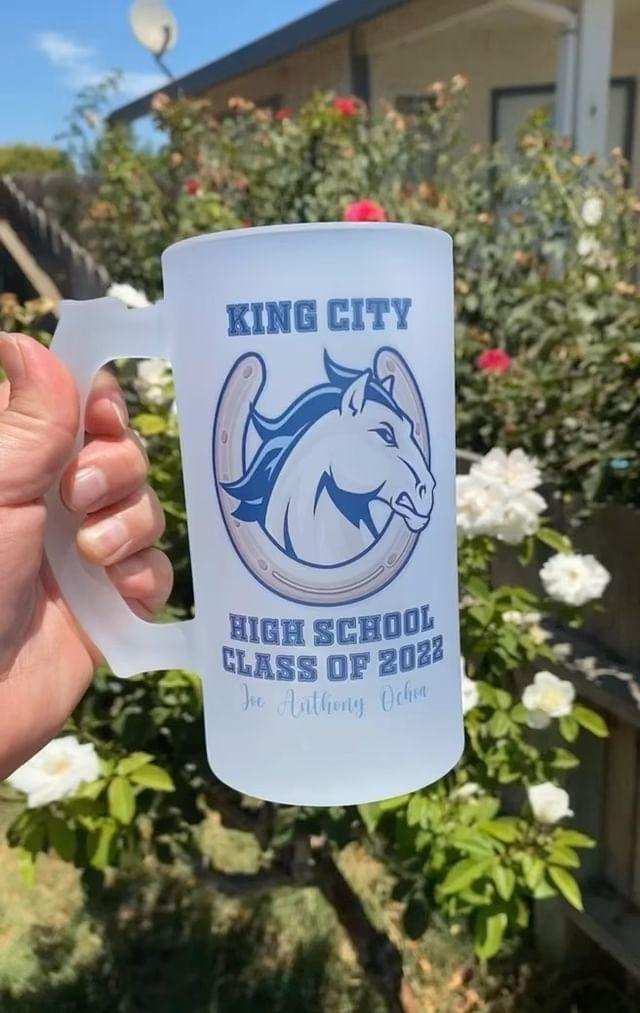glass-mug: (37, 208, 474, 814)
